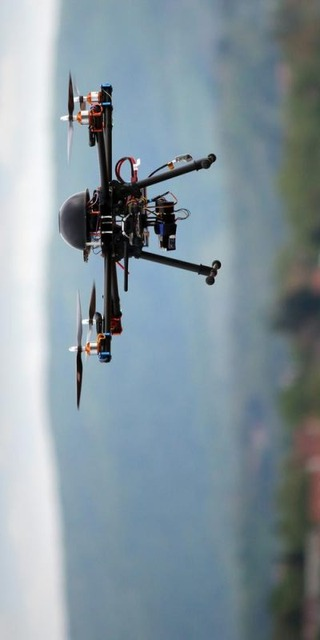drone: (58, 71, 224, 408)
